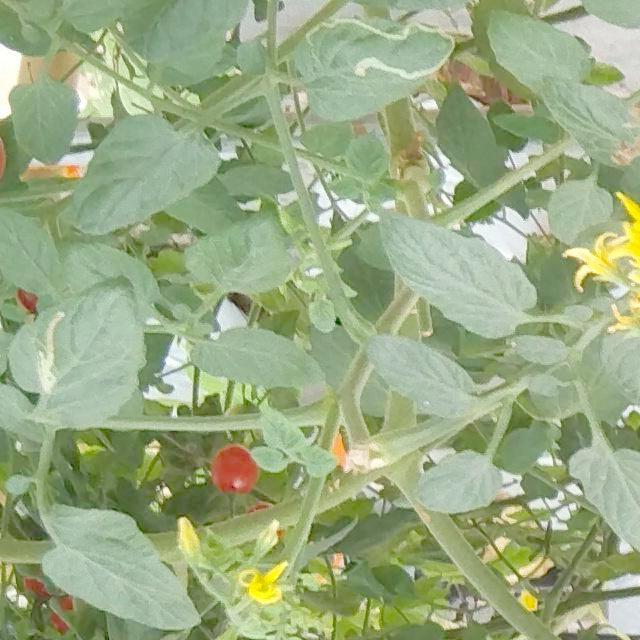Tomato target spot leaf: (5, 270, 152, 444), (284, 12, 462, 128)
